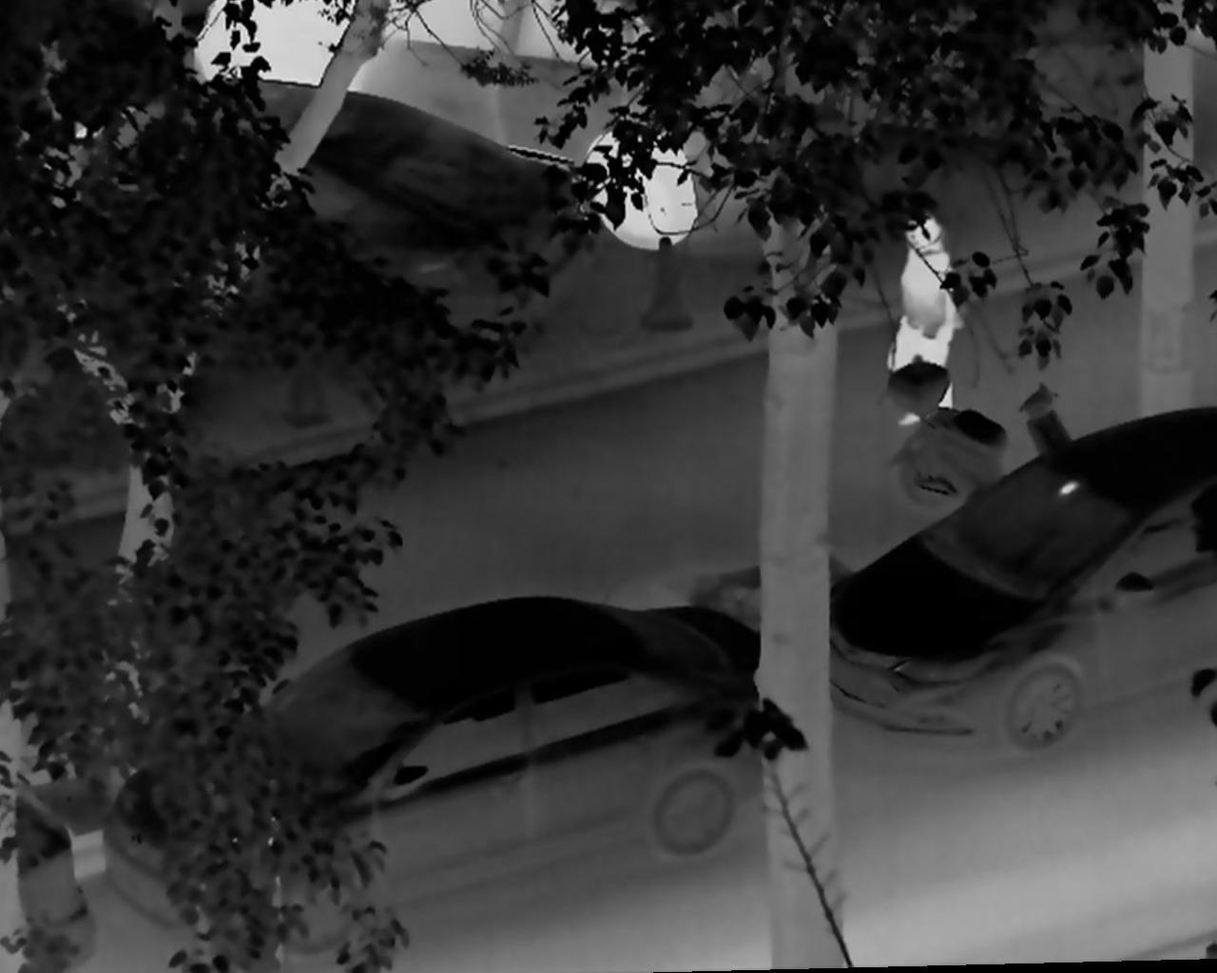person: (878, 205, 956, 435)
